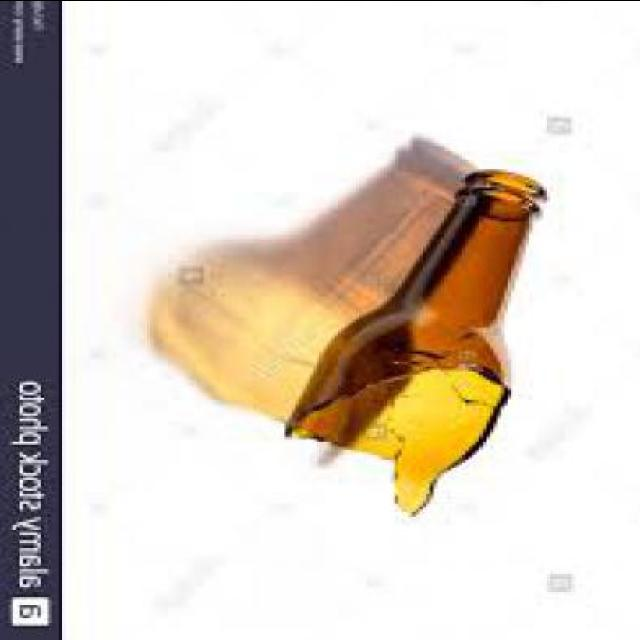kaca: (289, 170, 550, 518)
